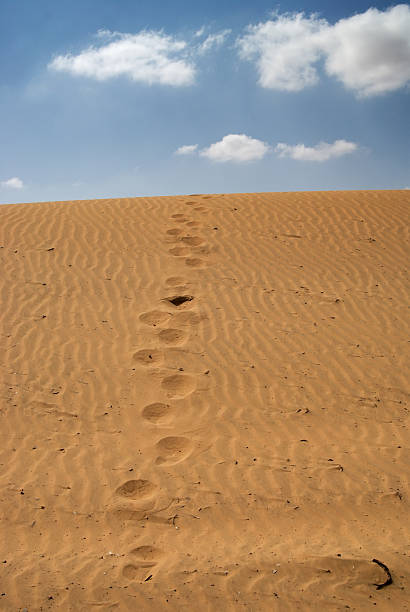human_foot_print: (111, 479, 157, 520), (122, 545, 163, 581), (155, 436, 192, 464), (115, 479, 157, 499), (161, 373, 195, 397), (142, 402, 173, 424), (133, 348, 163, 366), (139, 310, 171, 326), (158, 328, 186, 345), (163, 294, 194, 308), (169, 246, 191, 257), (180, 236, 203, 246), (166, 228, 184, 239), (185, 257, 204, 267)
